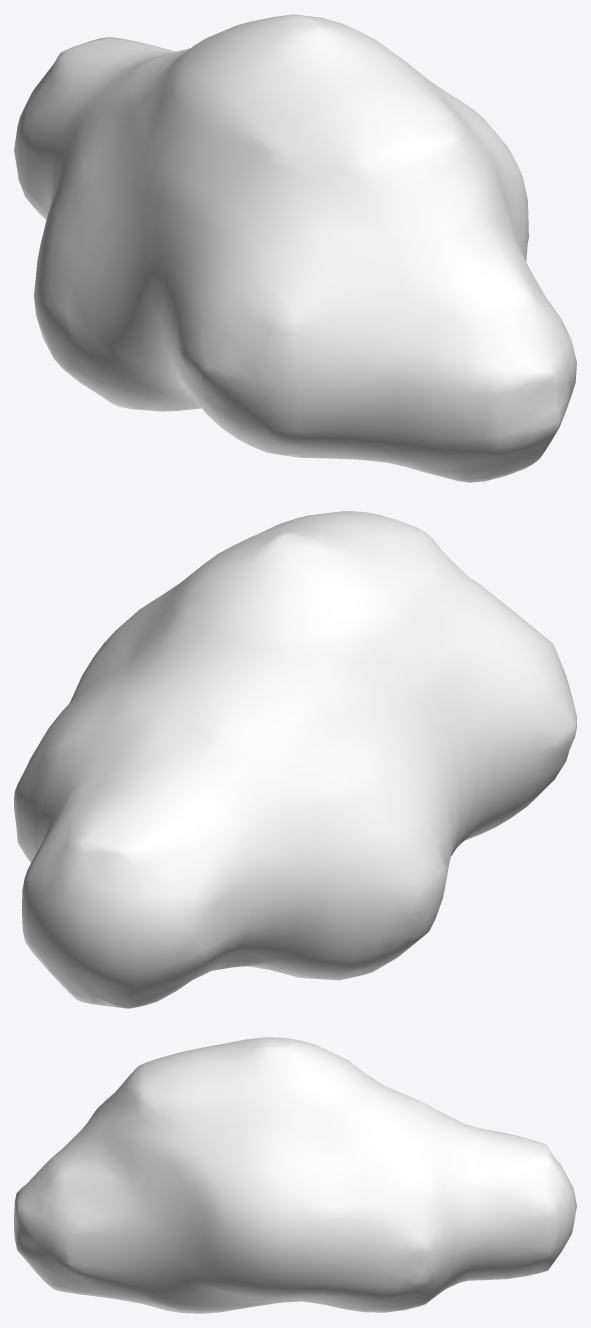
Rendered from Nuvem02.glb.
3 views of the same model, one above another, from view 1: azimuth 30°, elevation 25°; view 2: azimuth 150°, elevation 25°; view 3: azimuth 270°, elevation 25° (orthographic). The views are drawn at different scales.
Visible parts, largest first — view 1: Mball.012; view 2: Mball.012; view 3: Mball.012.
Part boxes in pixels (left/top/right/bottom): Mball.012: left=14, top=14, right=576, bottom=482; Mball.012: left=14, top=511, right=576, bottom=1008; Mball.012: left=14, top=1037, right=576, bottom=1313.
Size of the model in its own units: 3.07 by 2.81 by 5.51.
Materials: 1 (1 with a texture image).
